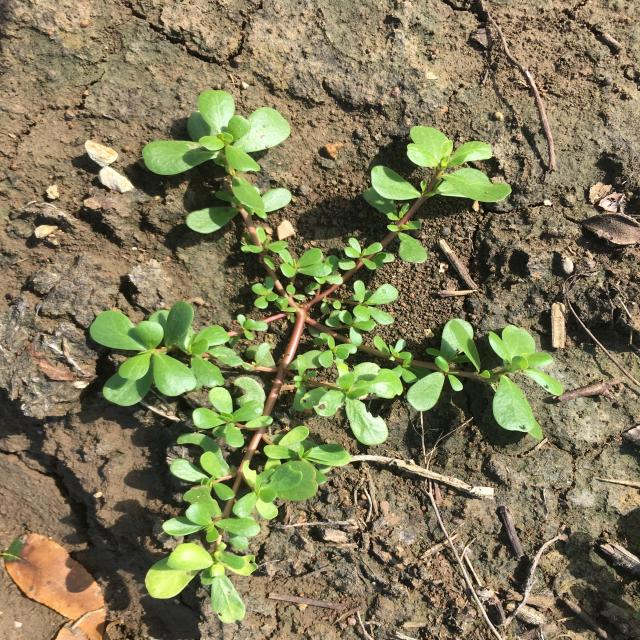Purslane: (89, 90, 564, 624)
